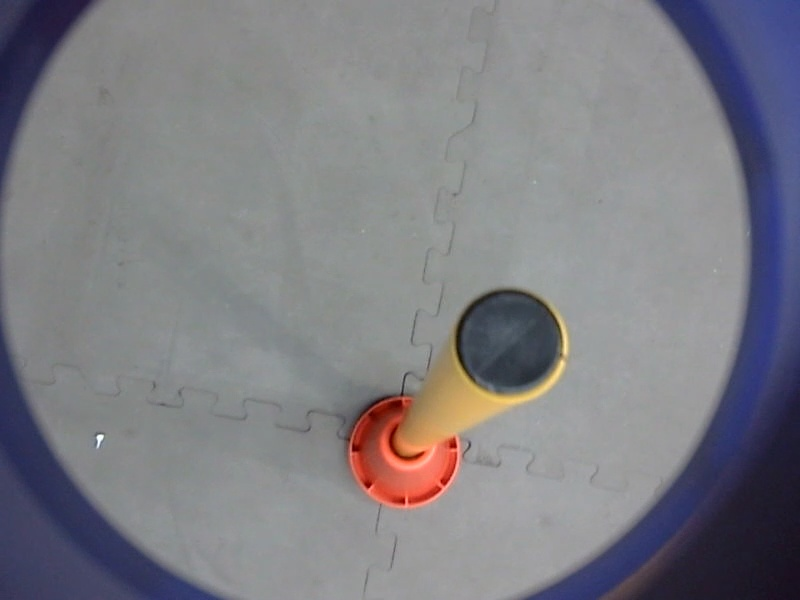tip: (443, 280, 577, 409)
